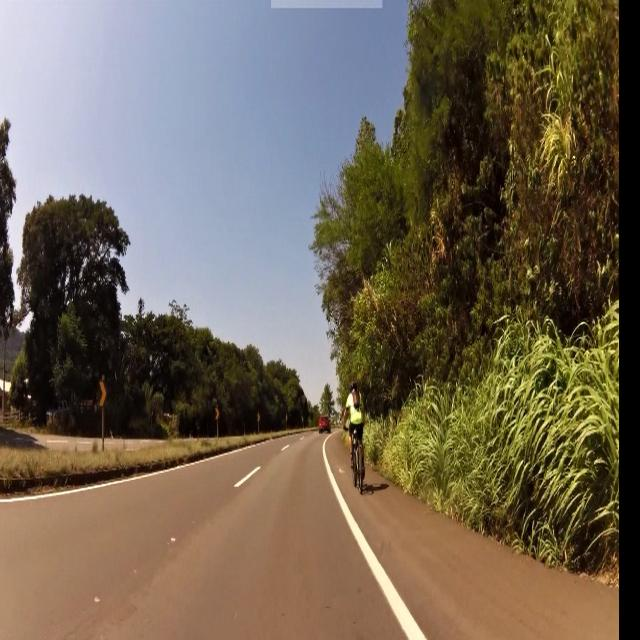Del: (100, 380, 106, 408), (214, 407, 220, 421)
